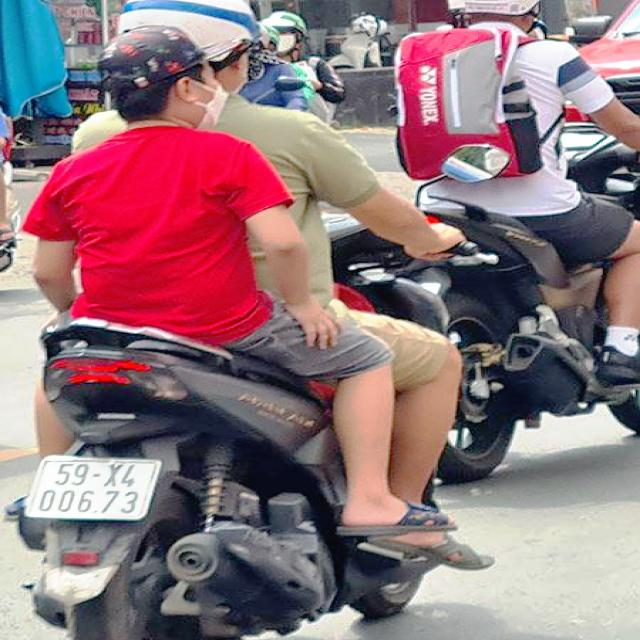license_plate: (22, 460, 162, 521)
